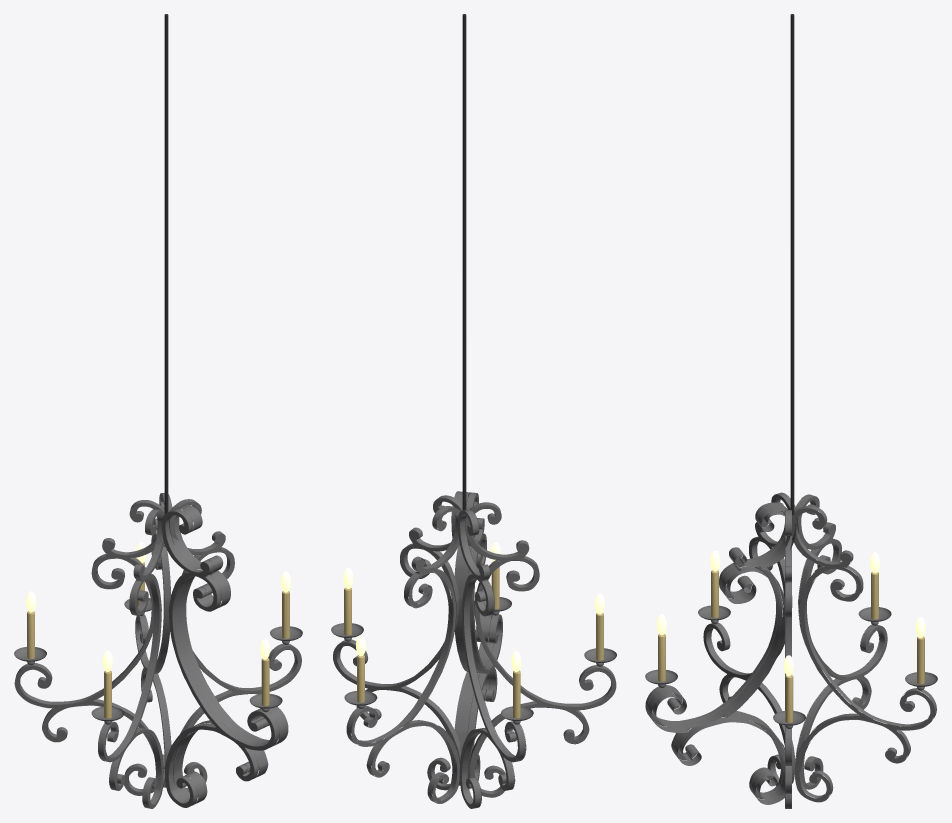
File: lampadario. (1).glb
The picture shows the model from 3 angles, left to right: view 1: azimuth 30°, elevation 25°; view 2: azimuth 150°, elevation 25°; view 3: azimuth 270°, elevation 25°; orthographic projection.
Parts seen in each view (by area): view 1: 3DSMeshMatrix (×17); view 2: 3DSMeshMatrix (×16); view 3: 3DSMeshMatrix (×14).
Part boxes in pixels (bbox=[...]): 3DSMeshMatrix (×17): bbox=[14, 14, 301, 808]; 3DSMeshMatrix (×16): bbox=[333, 14, 616, 808]; 3DSMeshMatrix (×14): bbox=[645, 14, 936, 808].
Bounding box in the file's own units: 427 × 1306 × 444.
